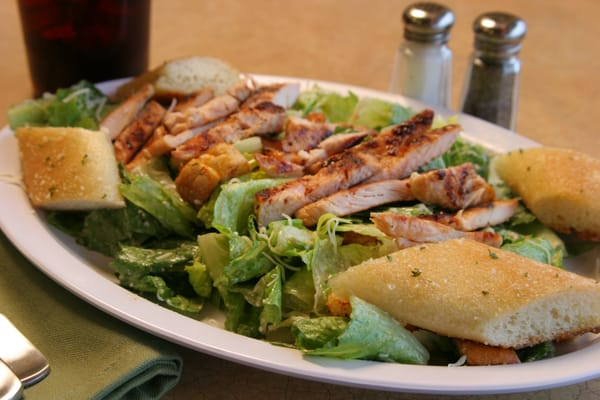curry: (7, 78, 109, 131)
pizza: (16, 0, 152, 96)
sandwich: (0, 310, 51, 390)
soup: (489, 145, 599, 263)
